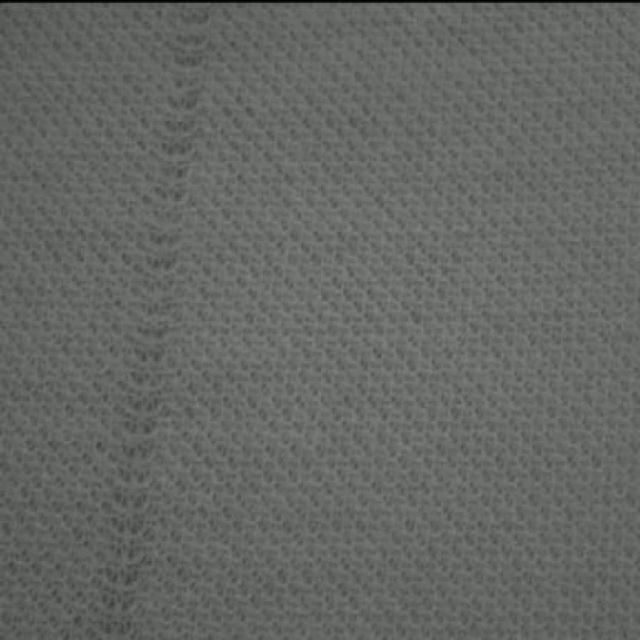Line: (96, 6, 214, 640)
